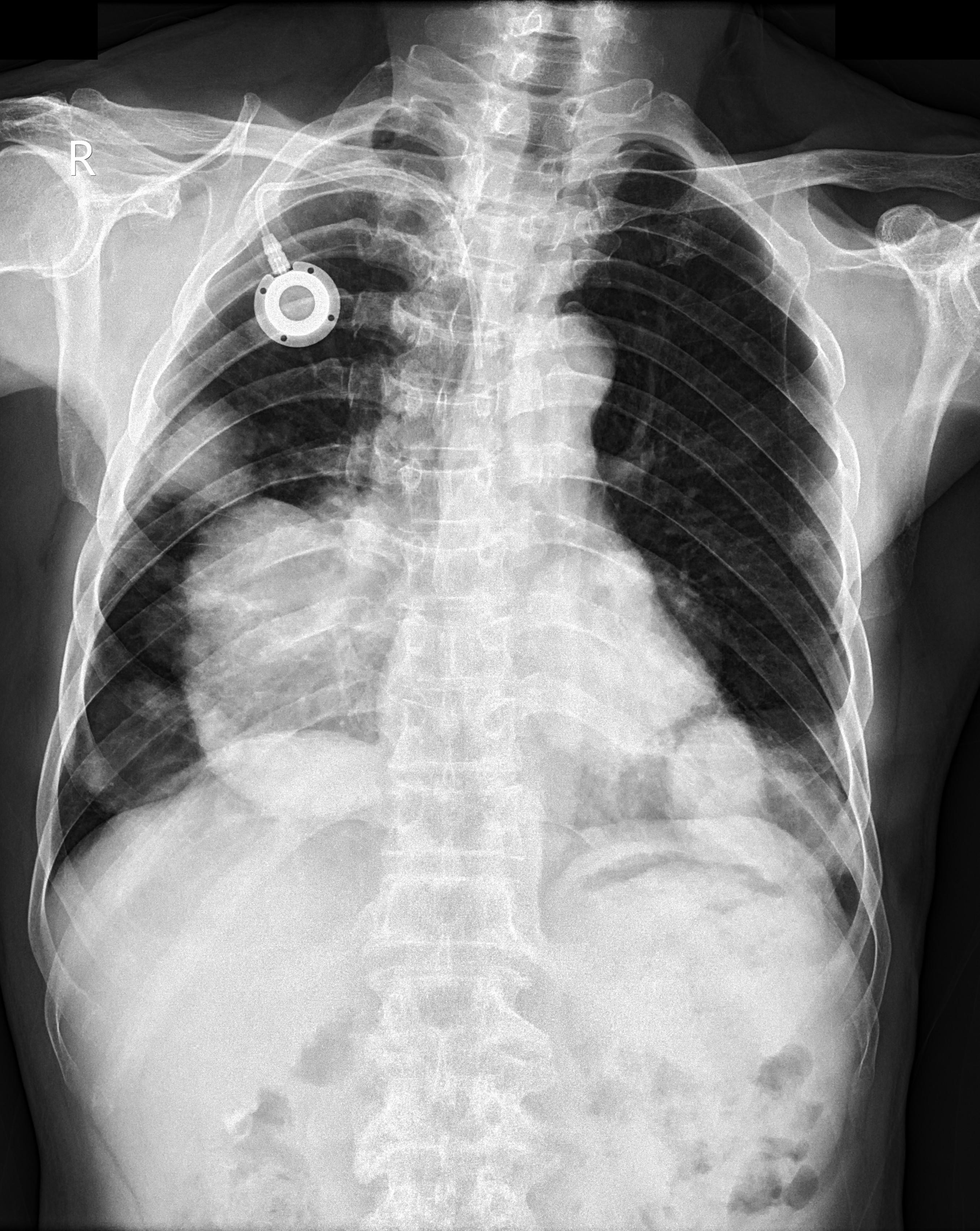Aortic enlargement: (518, 308, 617, 406)
